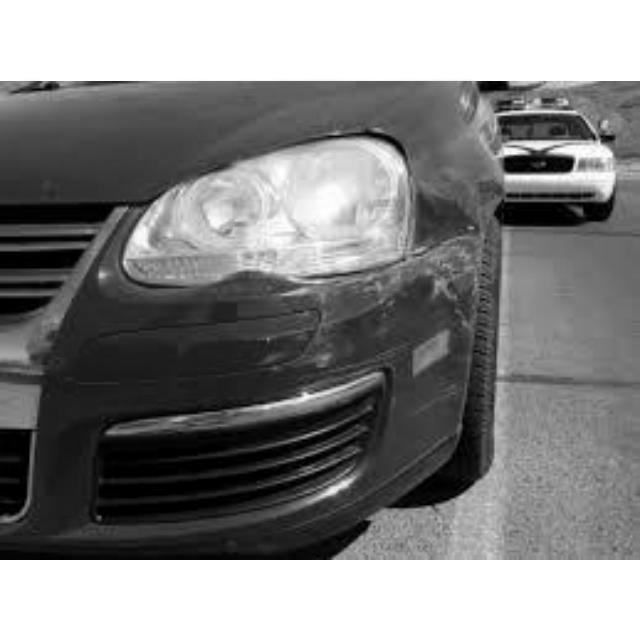front-bumper-dent: (198, 236, 487, 512)
